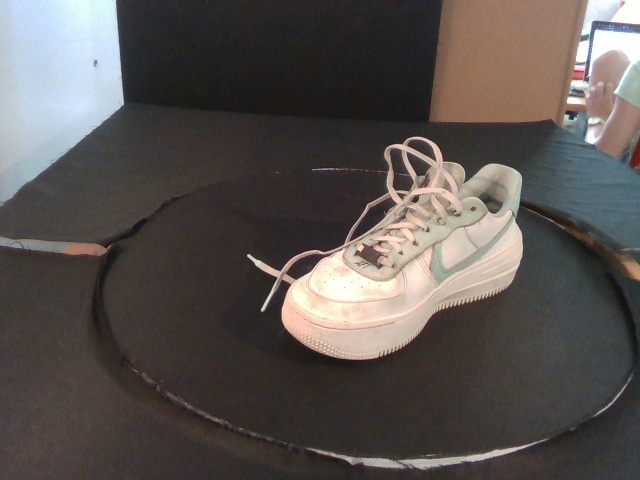shoe: (280, 160, 525, 362)
